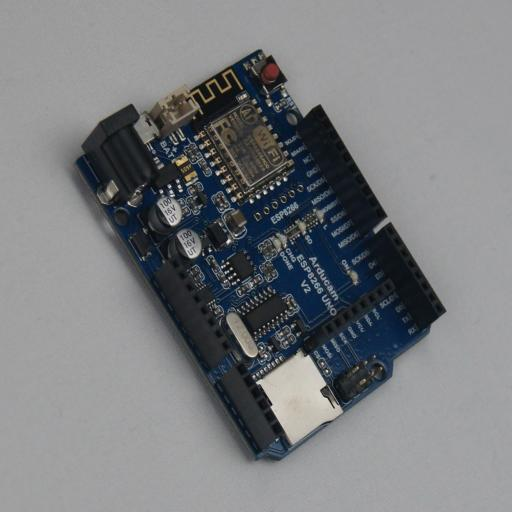Arduino Uno Camera Shield: (71, 49, 446, 462)
